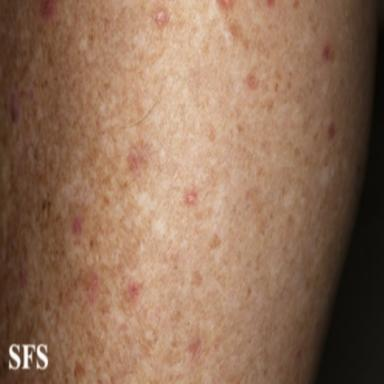Porokeratosis: (87, 271, 99, 305), (10, 92, 20, 123), (187, 338, 201, 359), (41, 0, 55, 19), (155, 9, 169, 27), (127, 283, 140, 302), (127, 152, 139, 172), (323, 44, 335, 62), (247, 73, 259, 90), (72, 215, 82, 235), (19, 266, 28, 288), (186, 191, 196, 204), (328, 123, 335, 139), (29, 89, 35, 102)
